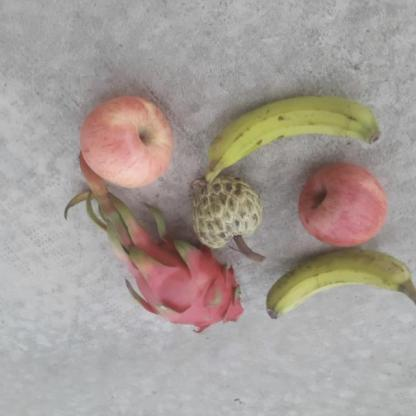annona: (187, 176, 266, 246)
apple: (78, 92, 181, 191), (296, 161, 392, 248)
banana: (191, 94, 383, 192), (266, 249, 416, 320)
pitaya: (120, 228, 254, 336)
